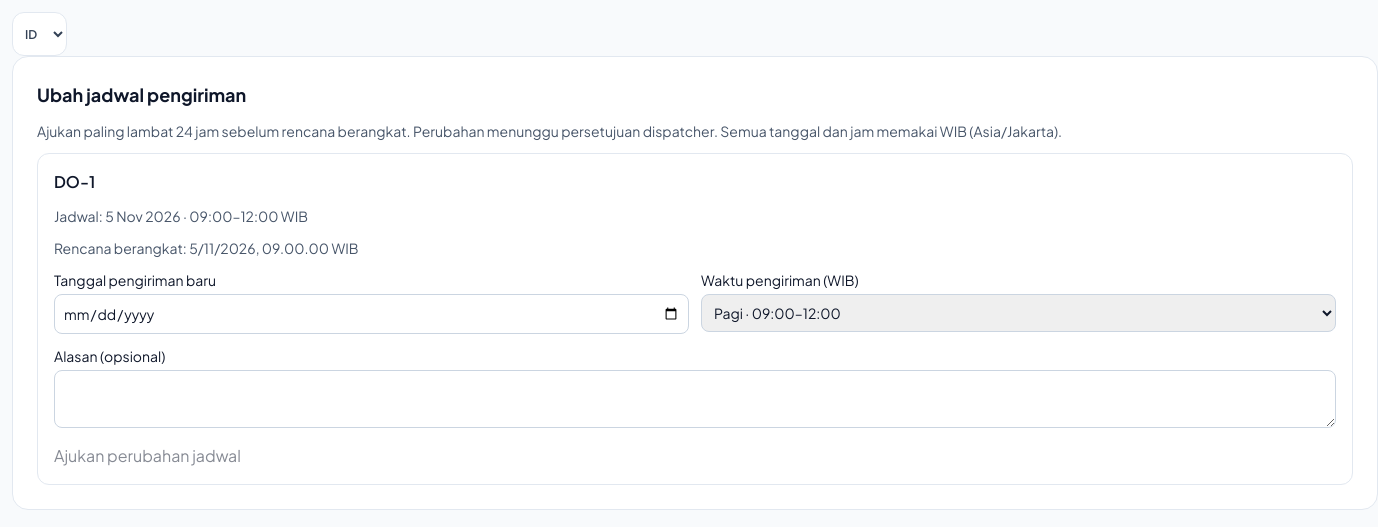
Test: Storefront ID/EN › localizes delivery rules while preserving WIB and API window codes
Expected: the heading "DO-1" is shown, x1=54 y1=171 x2=95 y2=192
In the date field labelled "Tanggal pengiriman baru": (372, 314) x1=54 y1=294 x2=689 y2=334, type "2026-11-06"
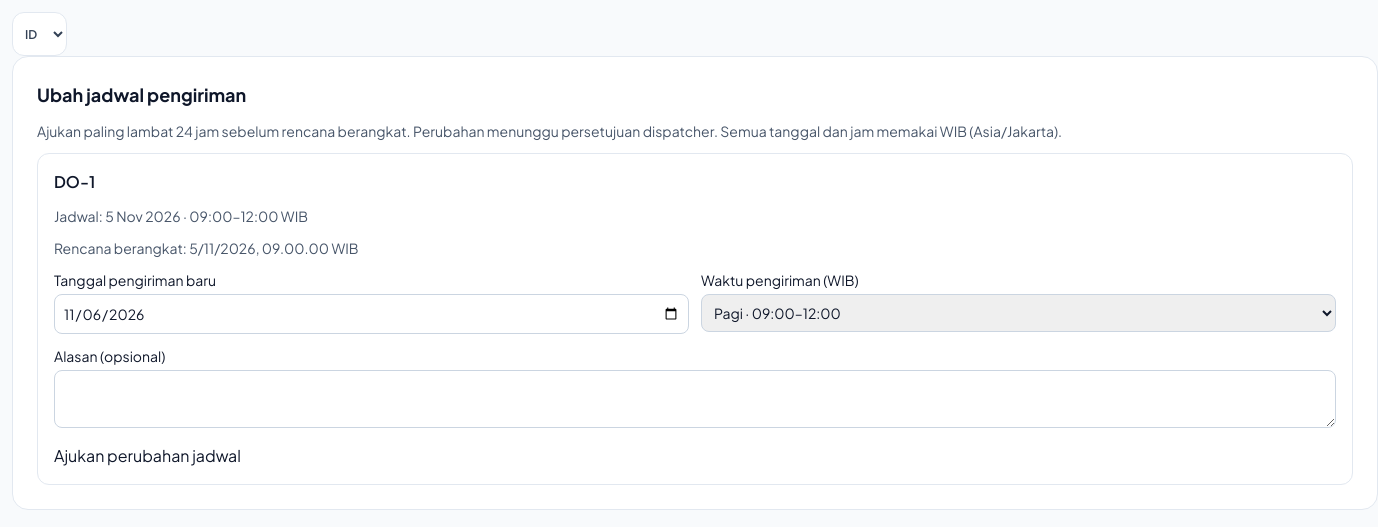
Select "Siang · 12:00–17:00" in the dropdown labelled "Waktu pengiriman (WIB)": (1018, 313) x1=701 y1=294 x2=1336 y2=332
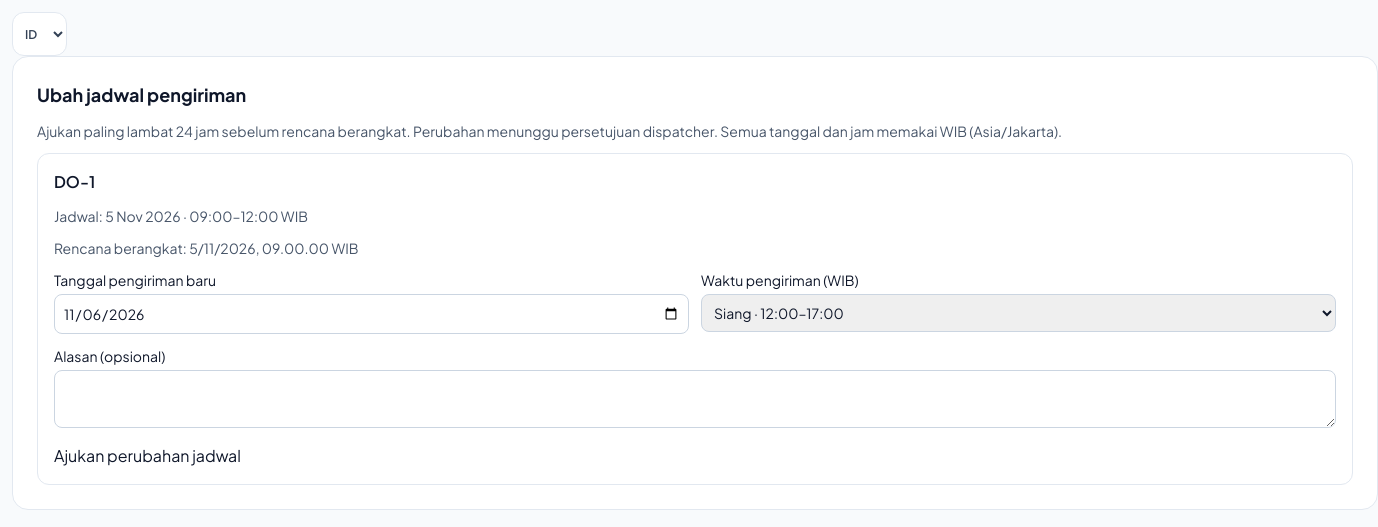
Select "EN" in the dropdown named "Bahasa": (40, 34) x1=12 y1=12 x2=67 y2=56
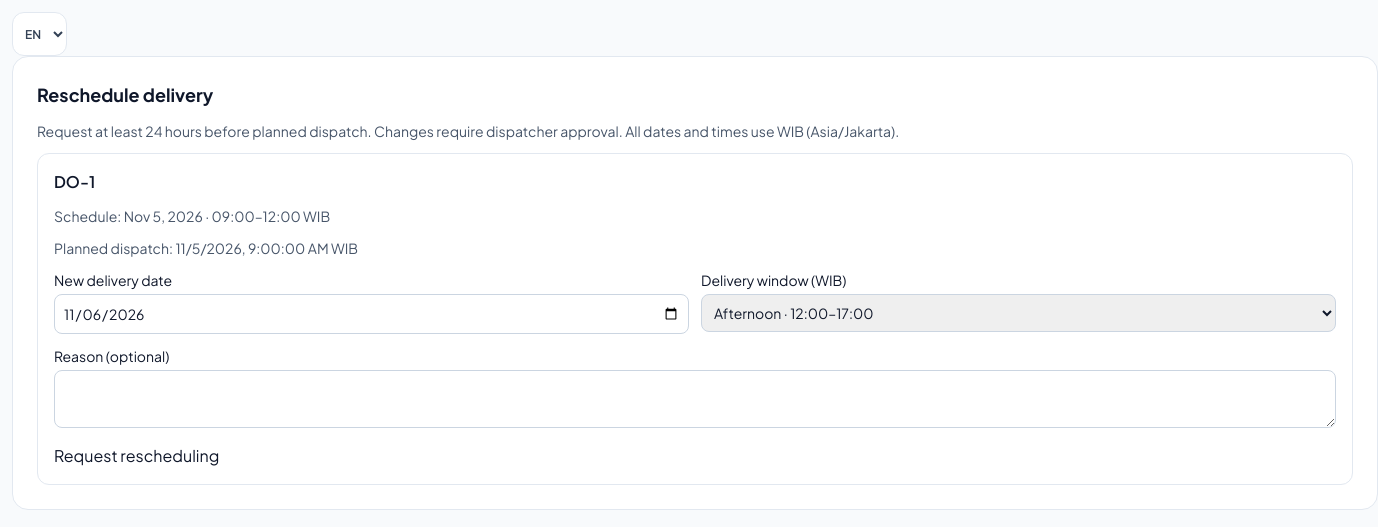
Expected: the text "at least 24 hours before planned dispatch" is shown, x1=37 y1=122 x2=899 y2=140
Click the button "Request rescheduling": (137, 456) x1=54 y1=444 x2=219 y2=468
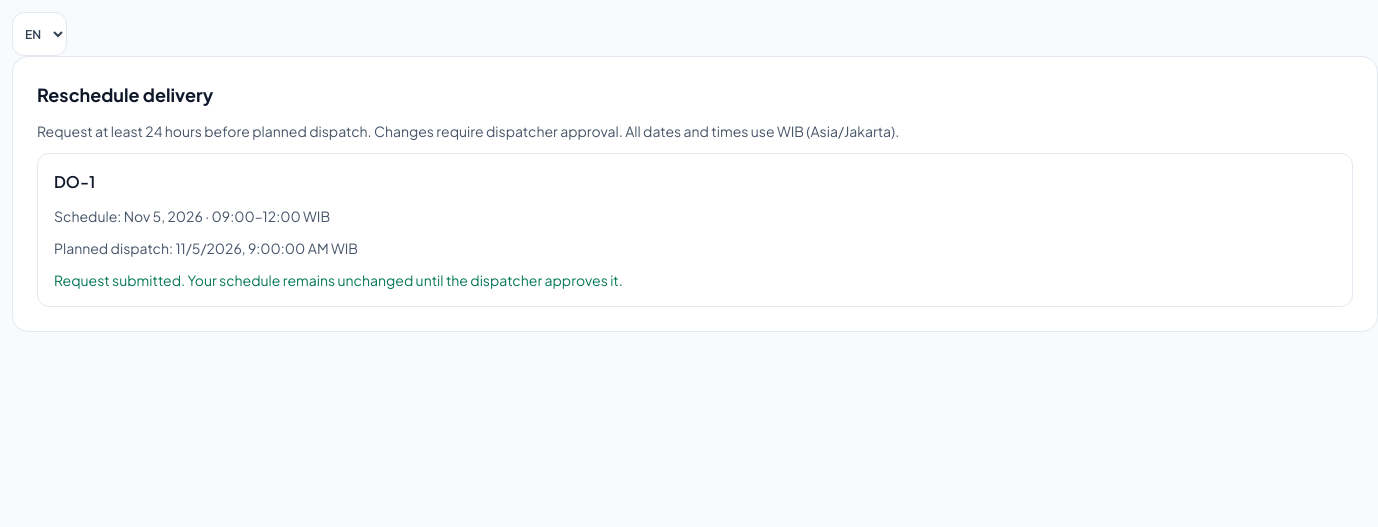
Expected: the message is shown, x1=54 y1=271 x2=623 y2=289
